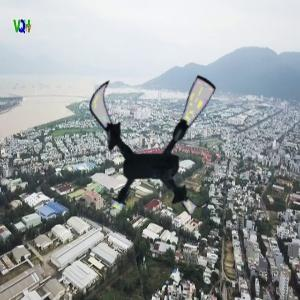drone: (79, 63, 235, 219)
